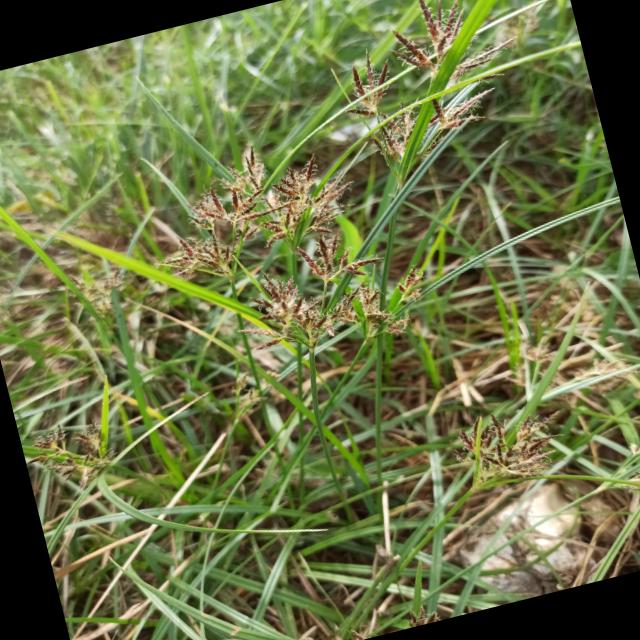cyperus: (150, 119, 434, 388), (314, 0, 536, 175), (138, 129, 358, 277), (243, 218, 437, 359), (444, 393, 570, 510), (24, 410, 126, 498), (53, 258, 136, 331)
